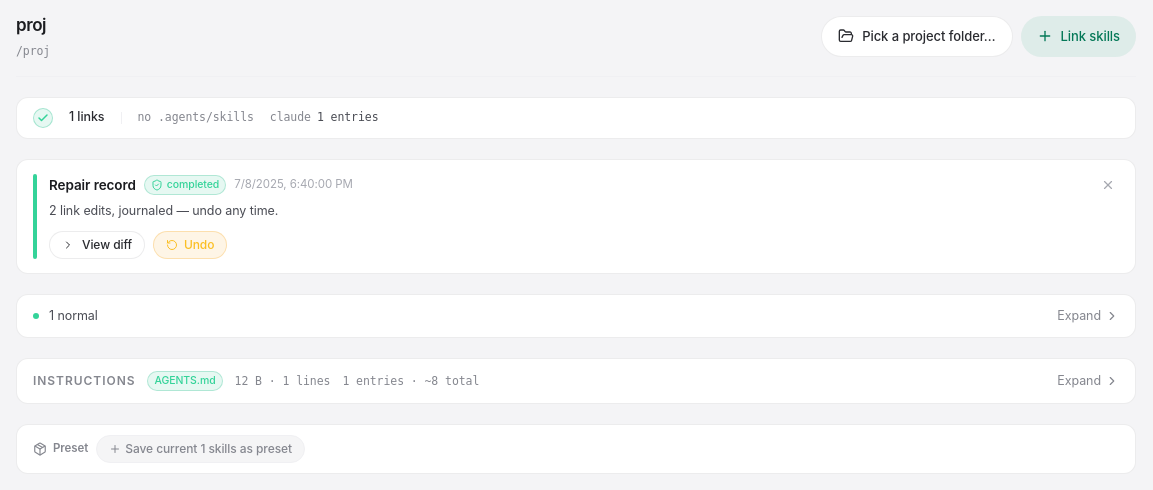
it: ChainProjects › dismisses the record card persistently without undoing
What coordinates should you click on to do the following:
click the button with test id "record-dismiss"
I would click on:
 (1108, 185)
Its box is [1097,174,1119,196].
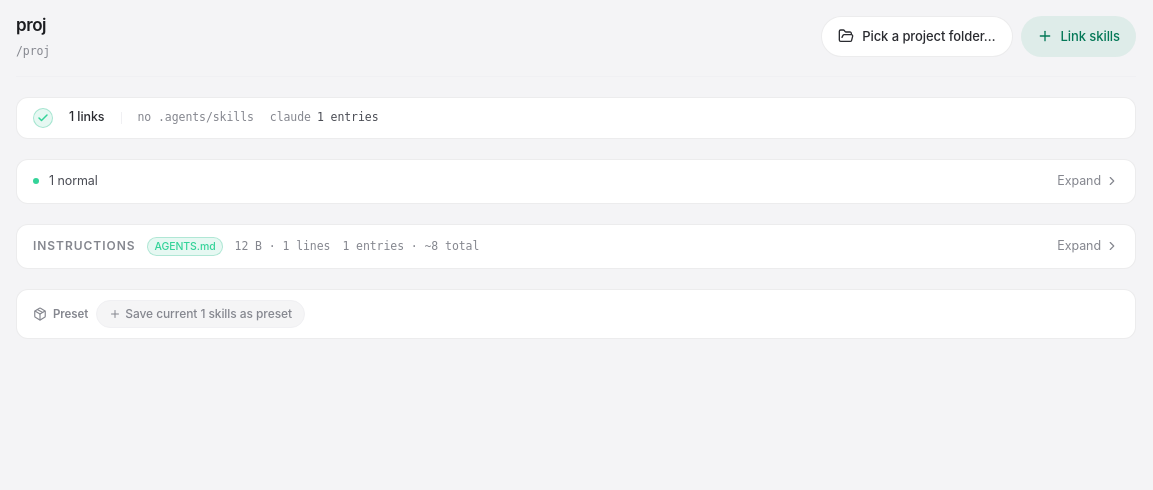
expect the element with test id "repair-record" is gone: met
